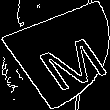M_NW: (12, 22, 98, 88)
